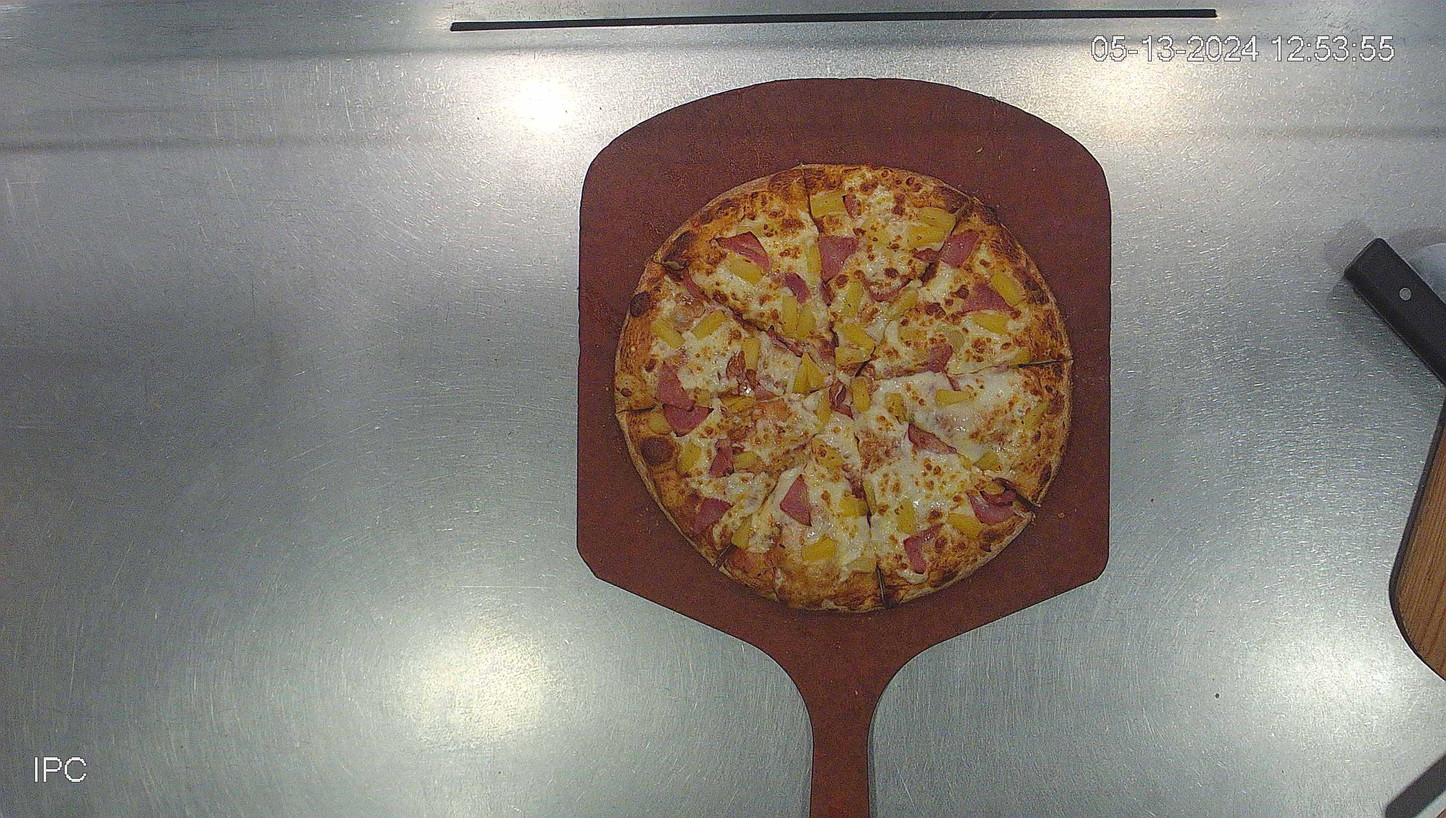manager_choice: (614, 163, 1075, 612)
